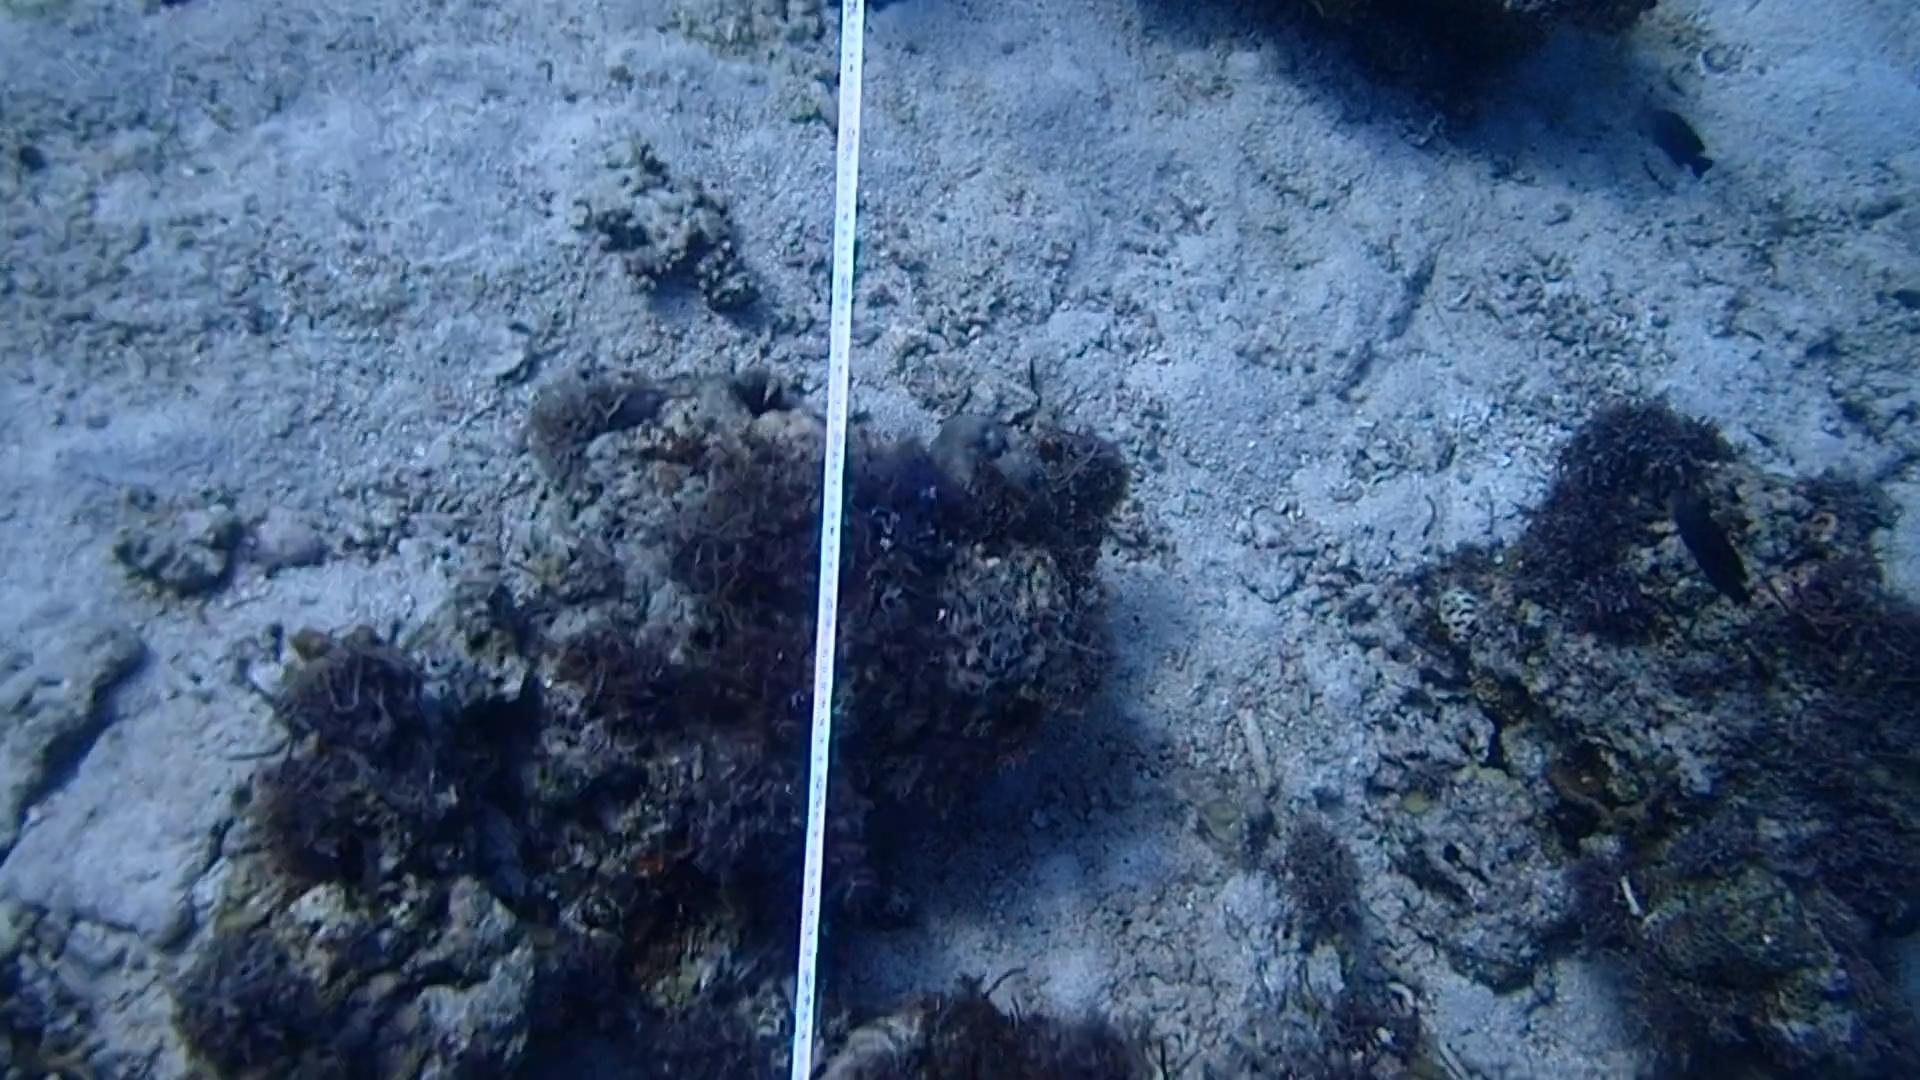Dark Fish: (1654, 477, 1774, 633), (1635, 91, 1718, 182)
